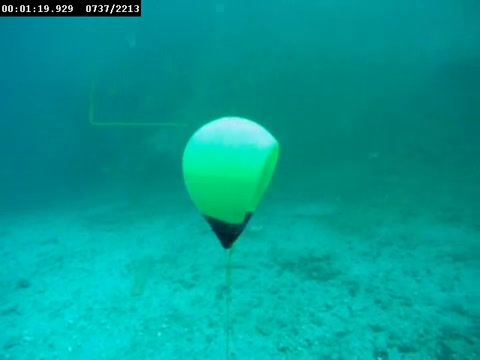buoy_green: (182, 117, 281, 243)
